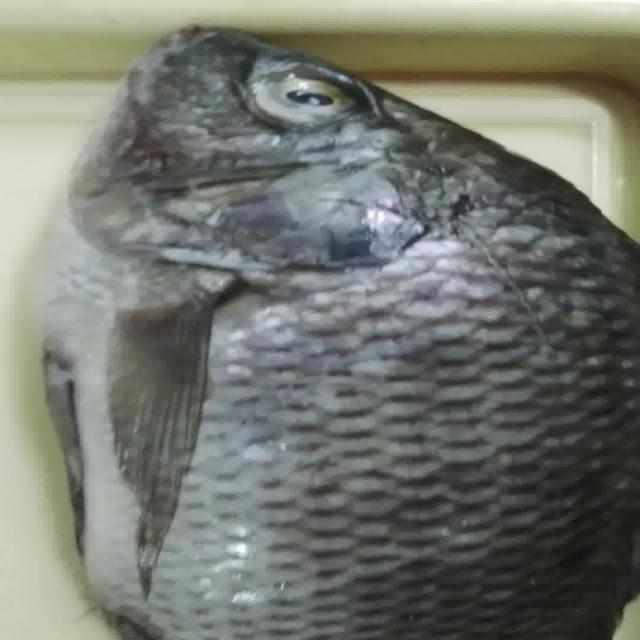Non-Fresh: (49, 24, 640, 599)
